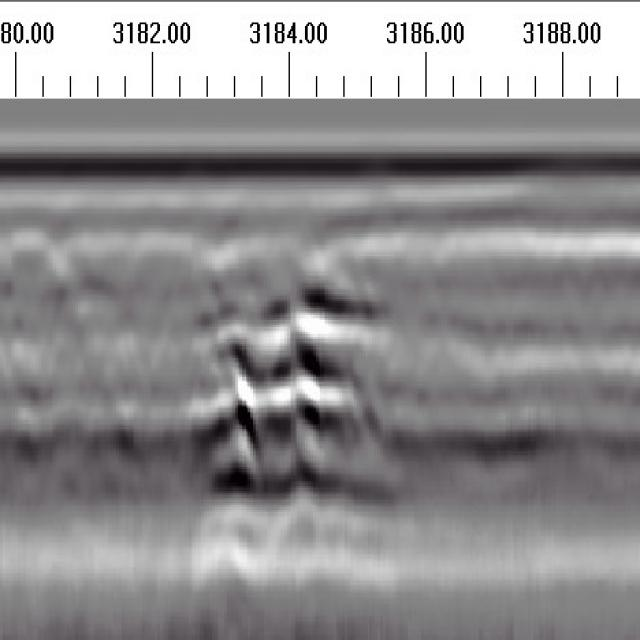loose: (191, 266, 387, 543)
